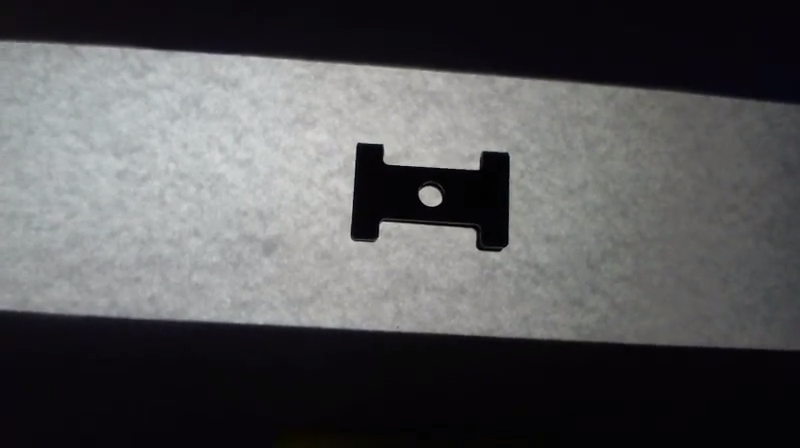O002: (347, 139, 516, 258)
